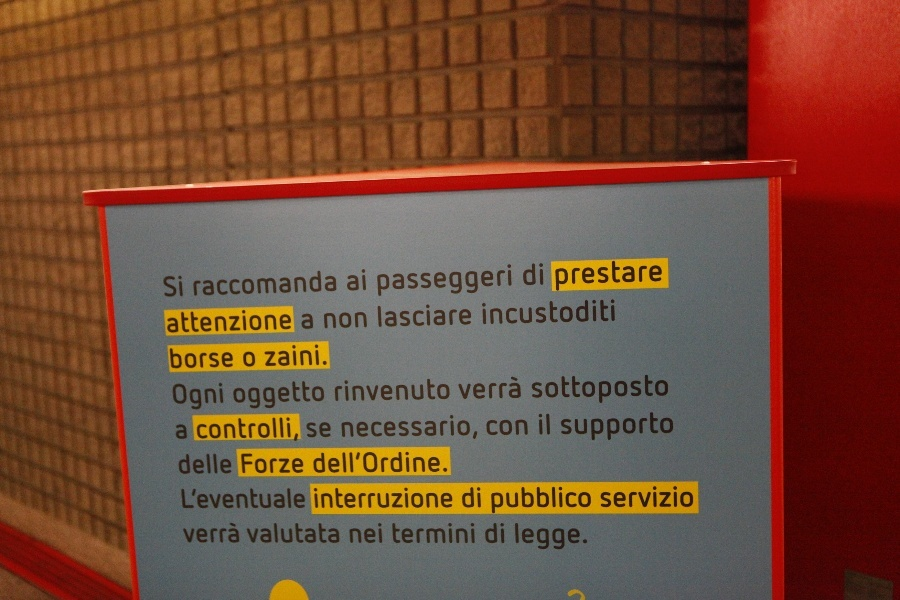text: (385, 264, 400, 302), (401, 264, 416, 302), (417, 264, 432, 302), (433, 264, 448, 302), (449, 264, 464, 302), (465, 264, 480, 302), (481, 264, 496, 302), (497, 264, 512, 302), (657, 410, 673, 444), (561, 410, 576, 444), (577, 410, 592, 444), (593, 410, 608, 444), (609, 410, 624, 444), (625, 410, 640, 444), (641, 410, 656, 444), (561, 258, 576, 291), (577, 258, 592, 291), (593, 258, 608, 291), (609, 258, 624, 291), (625, 258, 640, 291), (641, 258, 656, 291), (545, 374, 560, 407), (561, 374, 576, 407), (577, 374, 592, 407), (593, 374, 608, 407), (609, 374, 624, 407), (625, 374, 640, 407), (641, 374, 656, 407), (241, 379, 256, 409), (257, 379, 272, 409), (273, 379, 288, 409), (289, 379, 304, 409), (305, 379, 320, 409), (321, 269, 337, 297), (193, 269, 208, 297), (209, 269, 224, 297), (225, 269, 240, 297), (241, 269, 256, 297), (257, 269, 272, 297), (273, 269, 288, 297), (289, 269, 304, 297), (305, 269, 320, 297), (529, 523, 544, 551), (545, 523, 560, 551), (561, 523, 576, 551), (177, 383, 192, 410), (193, 383, 208, 410), (209, 383, 224, 410), (532, 374, 544, 407), (497, 487, 512, 513), (513, 487, 528, 513), (529, 487, 544, 513), (545, 487, 560, 513), (561, 487, 576, 513), (497, 299, 512, 324), (513, 299, 528, 324), (529, 299, 544, 324), (545, 299, 560, 324), (561, 299, 576, 324), (577, 299, 592, 324), (593, 299, 608, 324), (465, 375, 480, 400), (481, 375, 496, 400), (497, 375, 512, 400), (353, 414, 368, 439), (369, 414, 384, 439), (385, 414, 400, 439), (401, 414, 416, 439), (417, 414, 432, 439), (433, 414, 448, 439), (449, 414, 464, 439), (577, 487, 591, 513), (515, 523, 528, 551), (657, 374, 668, 407), (529, 263, 544, 286), (273, 343, 288, 366), (289, 343, 304, 366), (305, 343, 320, 366), (209, 418, 224, 441), (225, 418, 240, 441), (241, 418, 256, 441), (257, 418, 272, 441), (273, 418, 288, 441), (337, 380, 352, 402), (353, 380, 368, 402), (369, 380, 384, 402), (385, 380, 400, 402), (401, 380, 416, 402), (417, 380, 432, 402), (433, 380, 448, 402), (177, 311, 192, 333), (193, 311, 208, 333), (209, 311, 224, 333), (225, 311, 240, 333), (241, 311, 256, 333), (257, 311, 272, 333), (273, 311, 288, 333), (193, 453, 208, 475), (209, 453, 224, 475), (609, 486, 624, 508), (625, 486, 640, 508), (641, 486, 656, 508), (657, 486, 672, 508), (673, 486, 688, 508), (483, 299, 496, 324), (385, 306, 400, 327), (401, 306, 416, 327), (417, 306, 432, 327), (433, 306, 448, 327), (449, 306, 464, 327), (321, 452, 336, 473), (337, 452, 352, 473), (353, 452, 368, 473), (369, 452, 384, 473), (385, 452, 400, 473), (401, 452, 416, 473), (417, 452, 432, 473), (433, 452, 448, 473), (193, 488, 208, 509), (209, 488, 224, 509), (225, 488, 240, 509), (241, 488, 256, 509), (257, 488, 272, 509), (273, 488, 288, 509), (289, 488, 304, 509), (465, 487, 480, 508), (401, 523, 416, 544), (417, 523, 432, 544), (433, 523, 448, 544), (449, 523, 464, 544), (353, 523, 368, 544), (178, 453, 192, 475), (465, 414, 477, 439), (177, 348, 192, 368), (193, 348, 208, 368), (209, 348, 224, 368), (321, 488, 336, 508), (337, 488, 352, 508), (353, 488, 368, 508), (369, 488, 384, 508), (385, 488, 400, 508), (401, 488, 416, 508), (417, 488, 432, 508), (433, 488, 448, 508), (257, 524, 272, 544), (273, 524, 288, 544), (289, 524, 304, 544), (305, 524, 320, 544), (321, 524, 336, 544), (193, 523, 208, 543), (209, 523, 224, 543), (225, 523, 240, 543), (241, 453, 256, 473), (257, 453, 272, 473), (273, 453, 288, 473), (289, 453, 304, 473), (289, 418, 302, 441), (353, 269, 366, 291), (577, 523, 587, 551), (369, 523, 382, 544), (164, 275, 176, 297), (497, 419, 512, 436), (513, 419, 528, 436), (337, 312, 352, 329), (197, 418, 208, 441), (342, 414, 352, 439), (306, 421, 320, 438), (353, 312, 367, 329), (181, 488, 192, 509), (485, 523, 496, 544), (378, 264, 384, 302), (513, 375, 522, 400), (245, 524, 256, 544), (465, 523, 475, 544), (324, 312, 336, 329), (167, 311, 176, 333), (243, 352, 256, 367), (321, 421, 332, 438), (234, 379, 240, 409), (183, 523, 192, 543), (225, 453, 233, 475), (497, 523, 505, 544), (392, 523, 400, 544), (657, 258, 662, 291), (265, 343, 272, 366), (321, 343, 328, 366), (177, 424, 187, 440), (225, 348, 233, 368), (601, 486, 608, 508), (487, 419, 496, 436), (609, 299, 615, 324), (458, 375, 464, 400), (465, 306, 472, 327), (313, 452, 320, 473), (305, 313, 314, 329), (556, 258, 560, 291), (177, 275, 183, 297), (491, 487, 496, 513), (378, 306, 384, 327), (321, 379, 325, 409), (170, 348, 176, 368), (314, 488, 320, 508), (347, 269, 352, 291), (689, 486, 694, 508), (172, 383, 176, 410), (539, 413, 544, 434), (545, 413, 550, 434), (524, 263, 528, 286), (449, 488, 453, 508), (349, 523, 352, 544), (337, 524, 340, 544), (289, 311, 291, 333), (305, 488, 307, 509), (302, 313, 304, 329), (335, 380, 336, 402), (449, 380, 450, 402), (463, 487, 464, 508), (481, 487, 482, 508)
